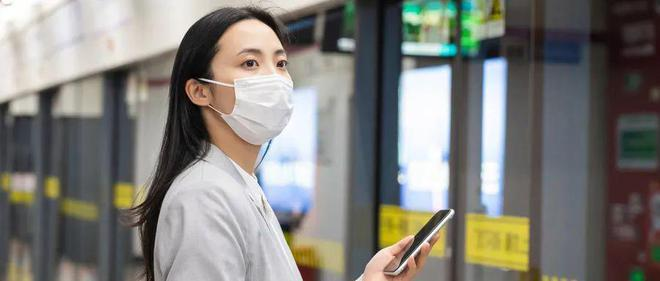mask: (199, 11, 301, 146)
